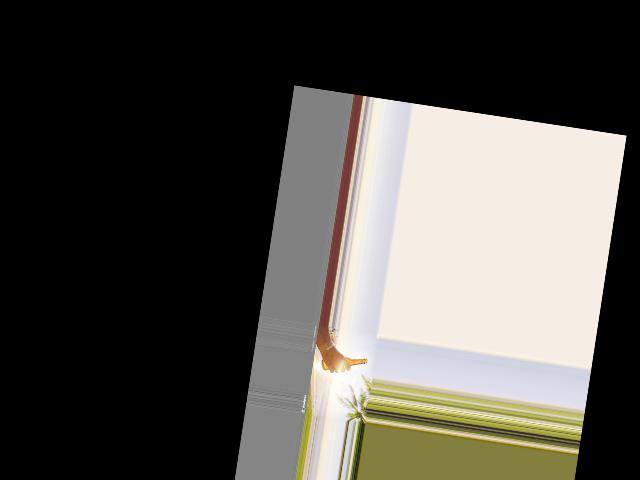beer: (320, 351, 367, 375)
